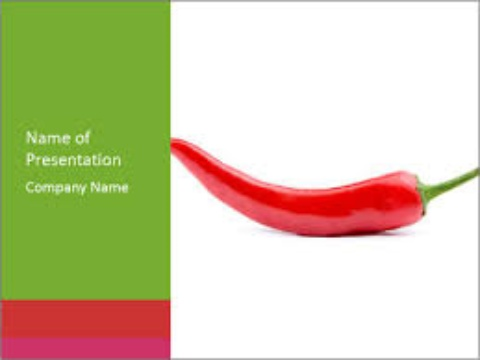Chilli: (171, 126, 475, 254)
